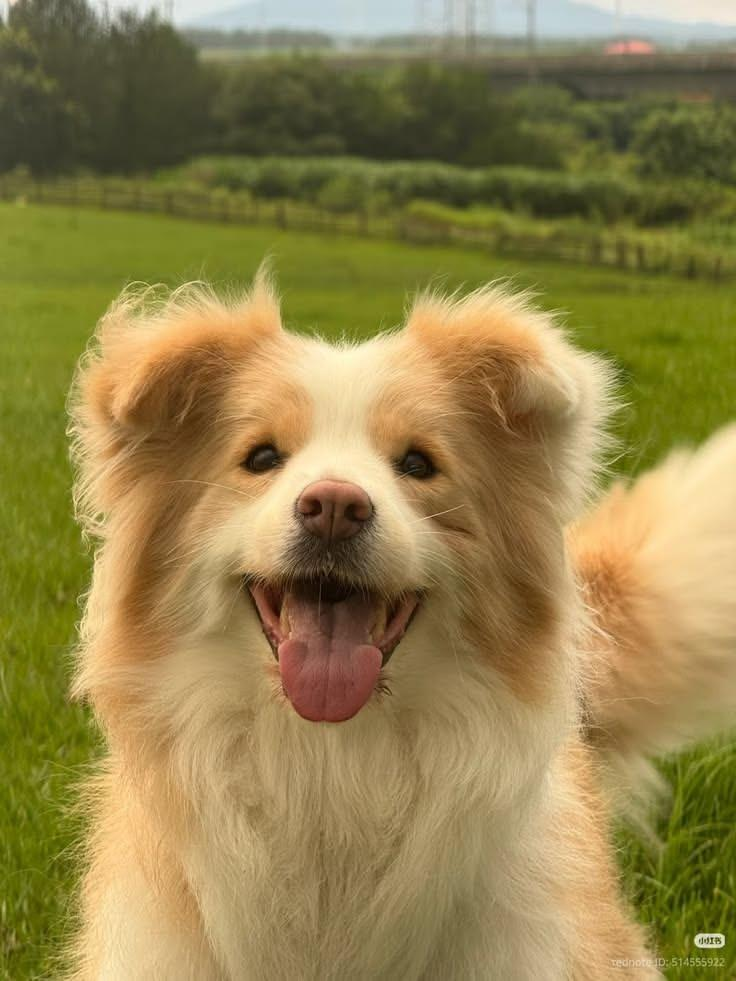adult_dog: (62, 267, 736, 981)
